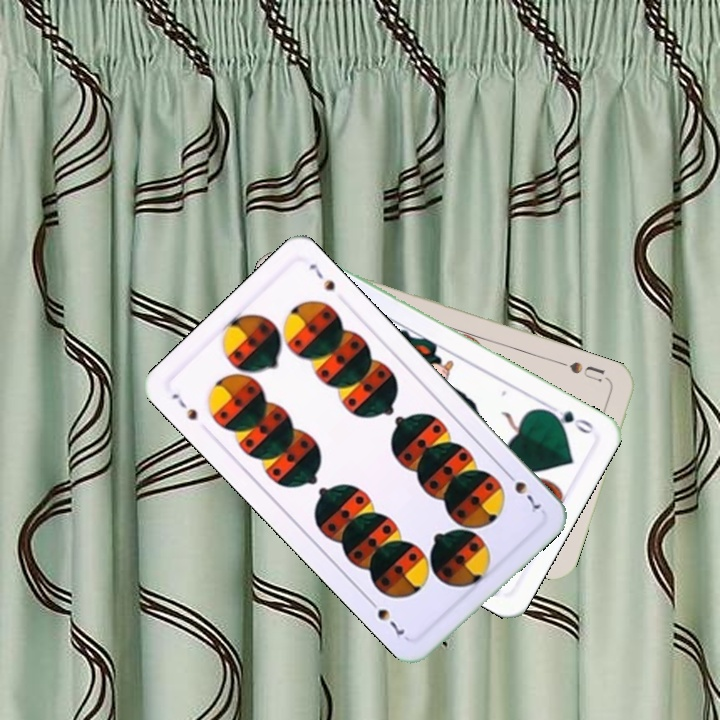GO: (541, 399, 596, 437)
S7: (501, 467, 543, 515), (167, 389, 200, 423)
SU: (555, 357, 612, 385)
